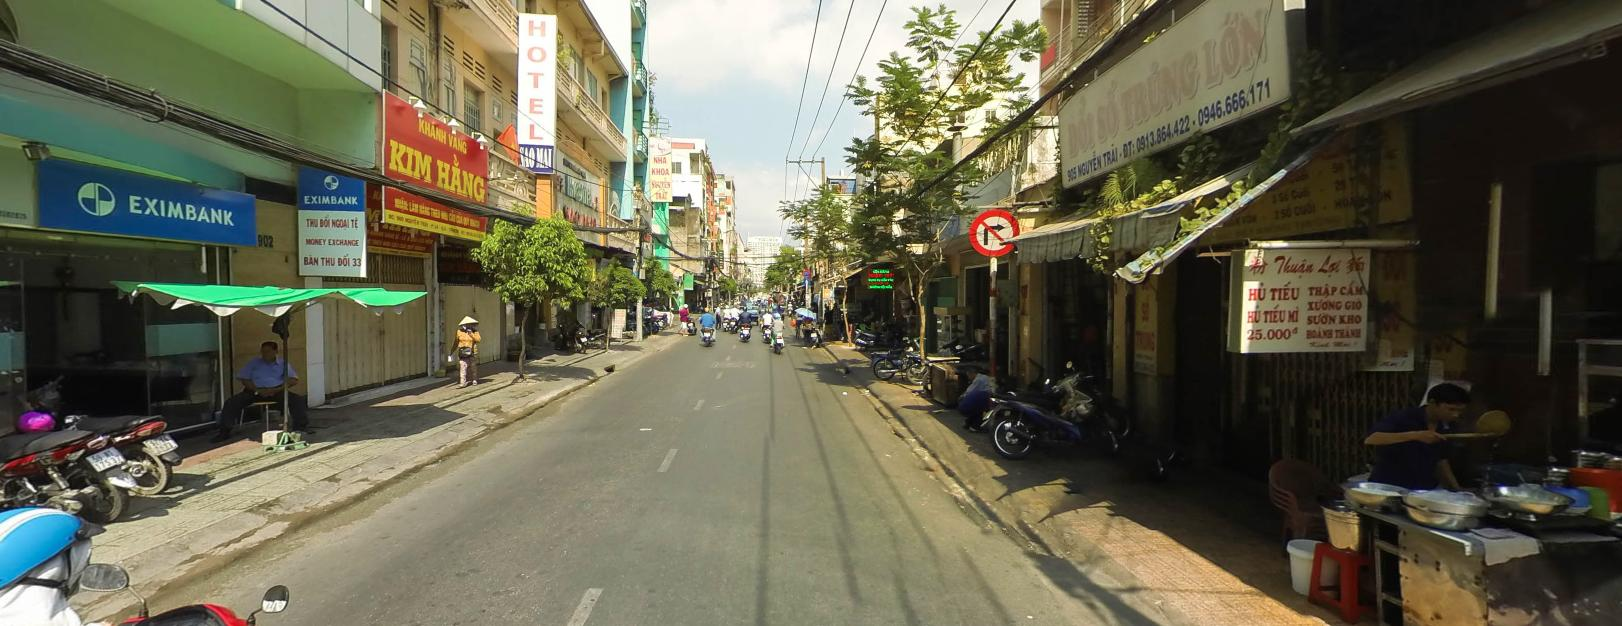Cam dung va do: (802, 268, 810, 276), (802, 267, 810, 275)
Cam re: (967, 206, 1020, 254), (968, 207, 1020, 254)
